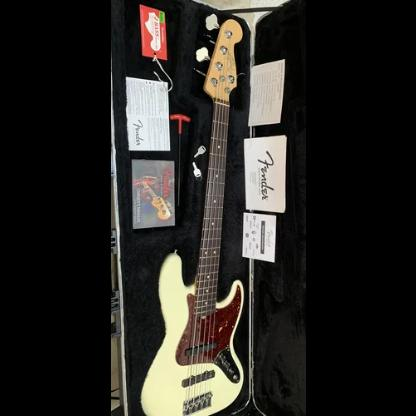bass: (140, 13, 246, 412)
